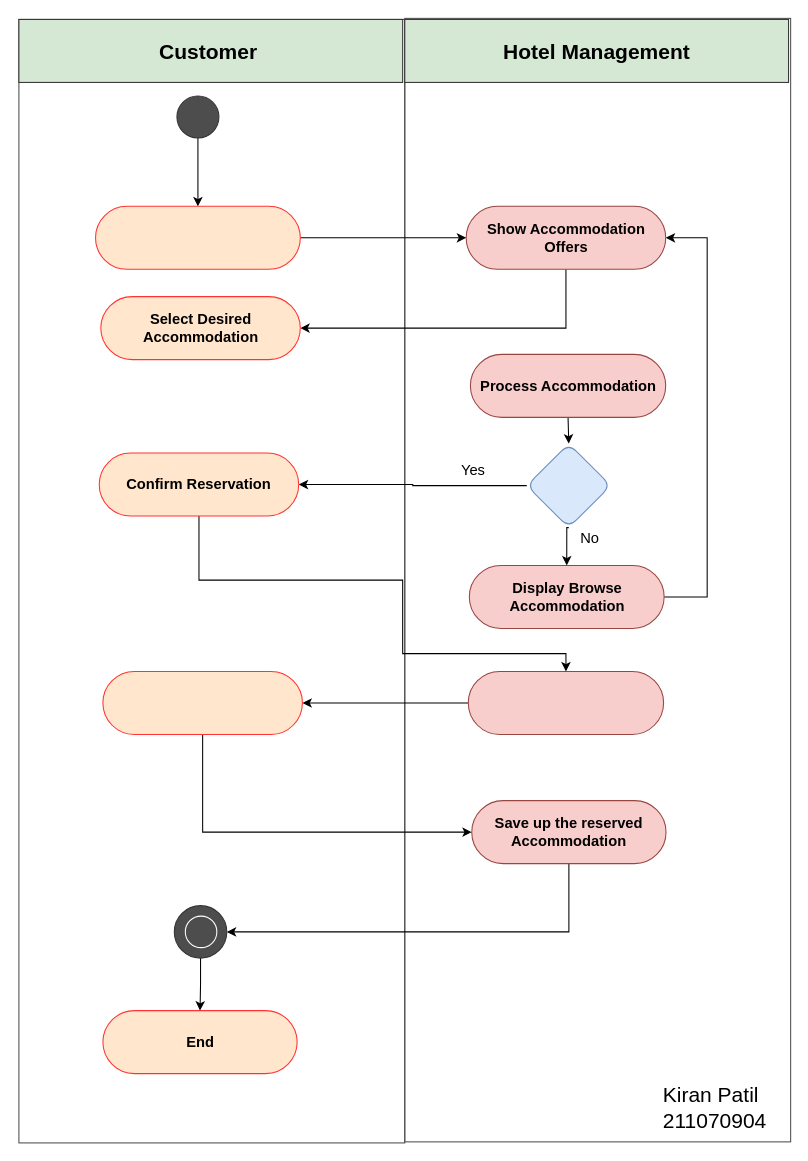
This 808x1161 diagram has some shape labels left out. Here are the shapes that lost their labels. From the top down, the box of each, then its label:
(94, 205, 300, 269): Start
(526, 443, 611, 528): Reserve
(102, 670, 302, 734): Encode Information
(467, 670, 664, 734): Request for basic infoomation
